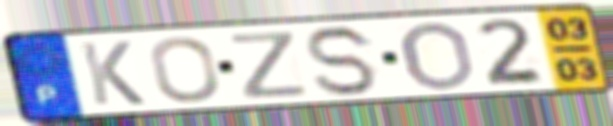2: (479, 16, 549, 89)
K: (76, 39, 149, 107)
O: (399, 19, 479, 93), (147, 34, 223, 105)
S: (303, 23, 383, 99)
Z: (227, 29, 312, 102)
